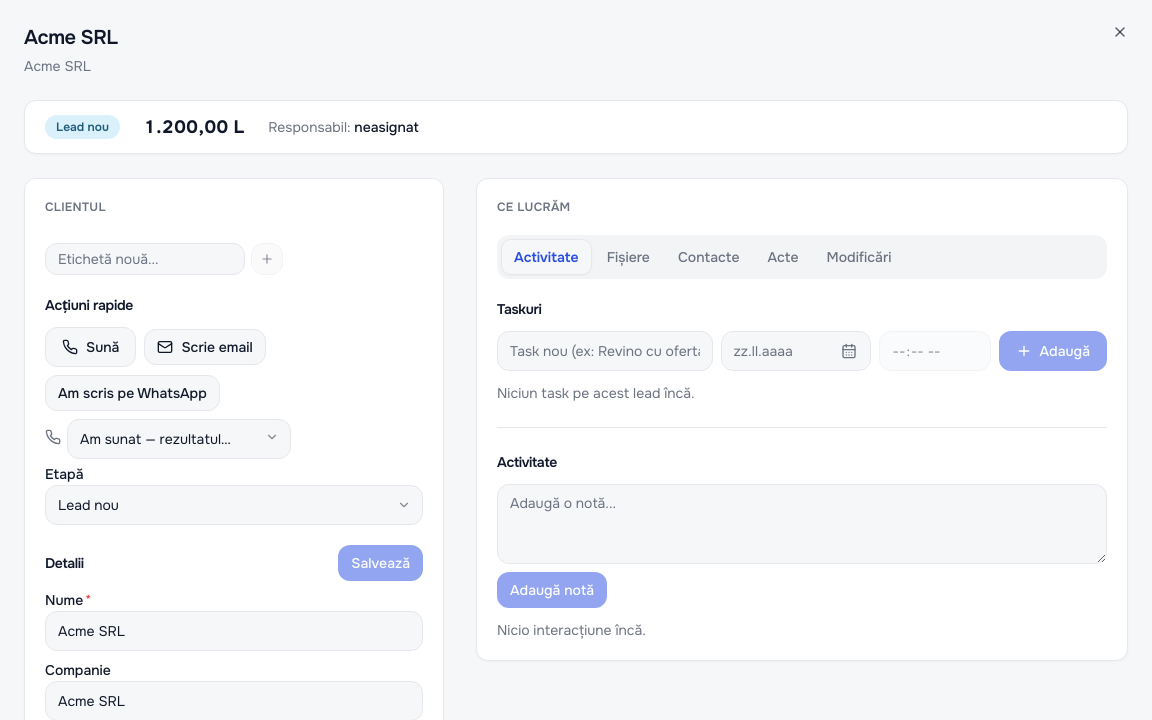
Modificările din fișă › [blocant] fără dreptul de jurnal (403), blocul lipsește — nu arată o secțiune goală
Click the tab "Modificări".
click(859, 257)  # box [814, 239, 904, 275]
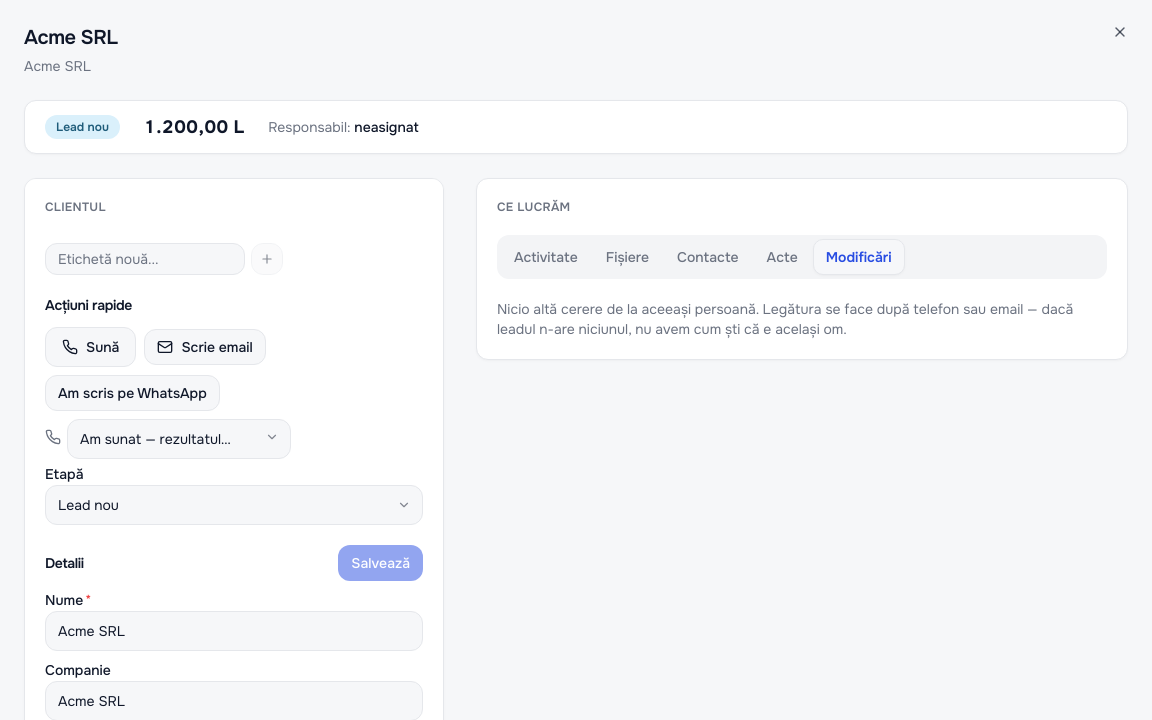
Now the text "Nicio altă cerere" is shown, box [497, 300, 1073, 338]
